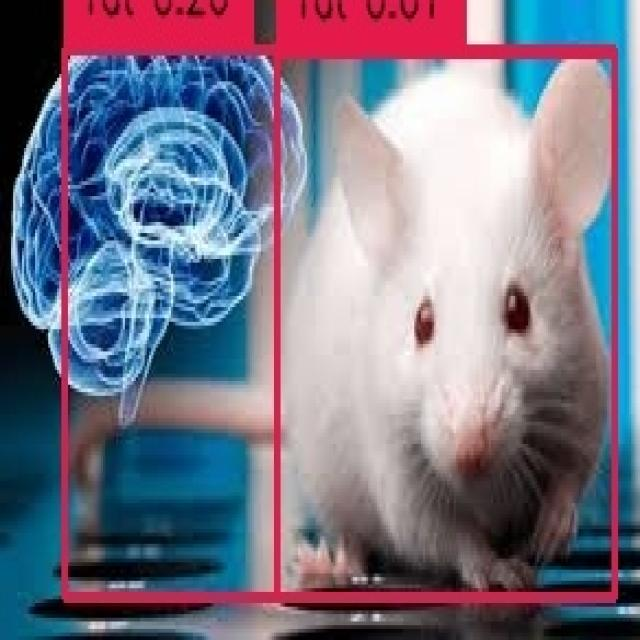rat: (61, 44, 612, 592), (274, 48, 611, 592)
